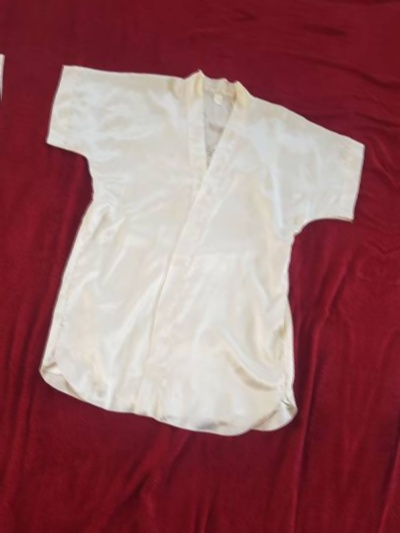Blouse: (0, 31, 384, 473), (374, 97, 400, 533), (0, 0, 15, 408)
